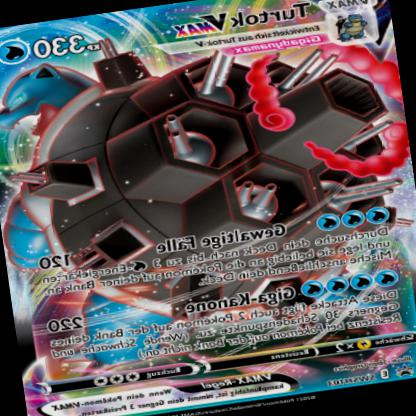Blastoise: (1, 50, 184, 243)
